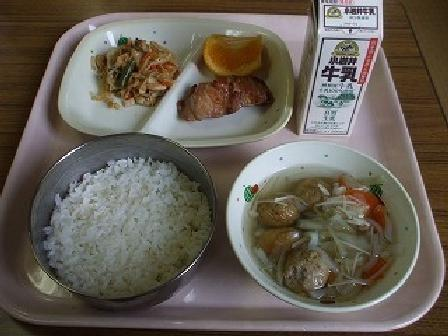Citrus: (197, 27, 269, 80)
Meat: (179, 74, 277, 125)
Milk: (287, 2, 384, 137)
Rice: (30, 142, 214, 312)
meat based soup: (229, 145, 418, 312)
vegetable based cooked food: (88, 36, 172, 113)
